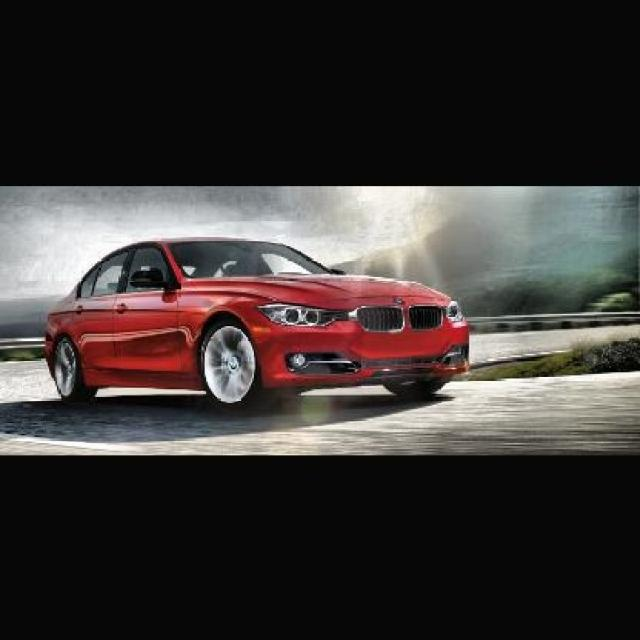red: (36, 232, 542, 384)
